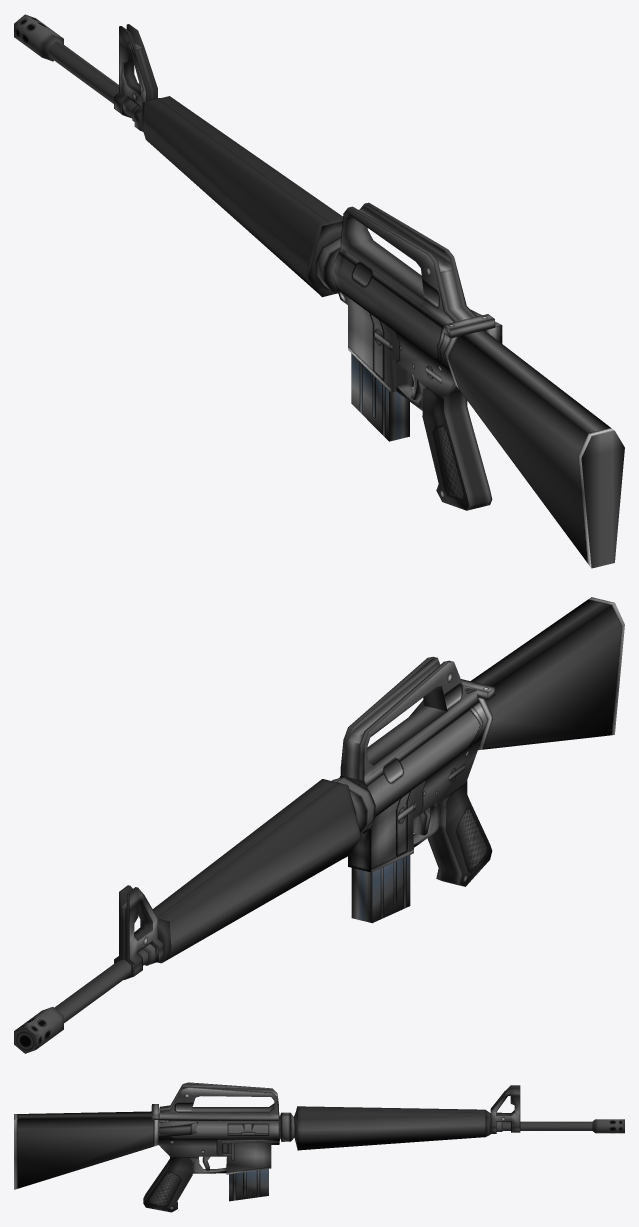
3 views of the same model, one above another, from view 1: azimuth 30°, elevation 25°; view 2: azimuth 150°, elevation 25°; view 3: azimuth 270°, elevation 25° (orthographic). The views are drawn at different scales.
Visible parts, largest first — view 1: body, mover_bolt; view 2: body; view 3: body.
Part boxes in pixels (left/top/right/bottom): body: left=14, top=14, right=624, bottom=568; mover_bolt: left=419, top=290, right=495, bottom=338; body: left=14, top=597, right=624, bottom=1053; body: left=14, top=1082, right=624, bottom=1212.
Size of the model in its own units: 0.0536 by 0.1913 by 0.8514.
Materials: 1 (1 with a texture image).
